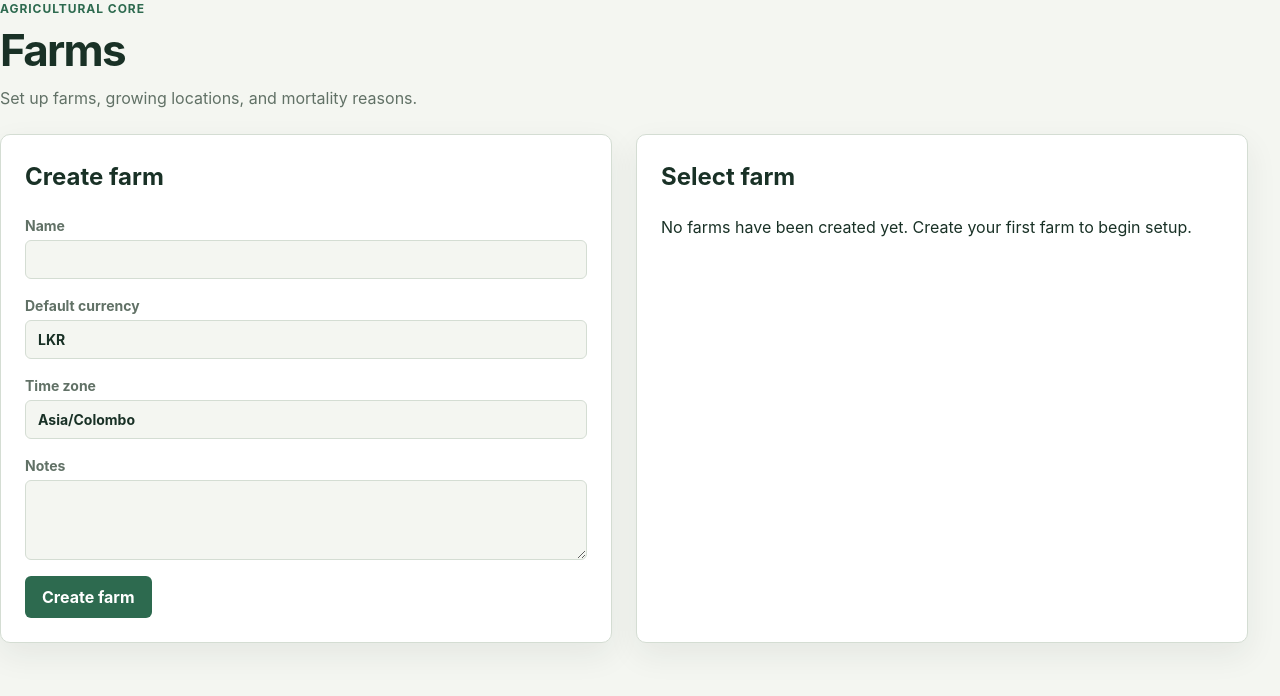
FarmsPage › creates a Farm with defaults then selects the created Farm and loads its setup
In the field labelled "Name": (306, 260) [25,240,587,279], type "Test Farm"
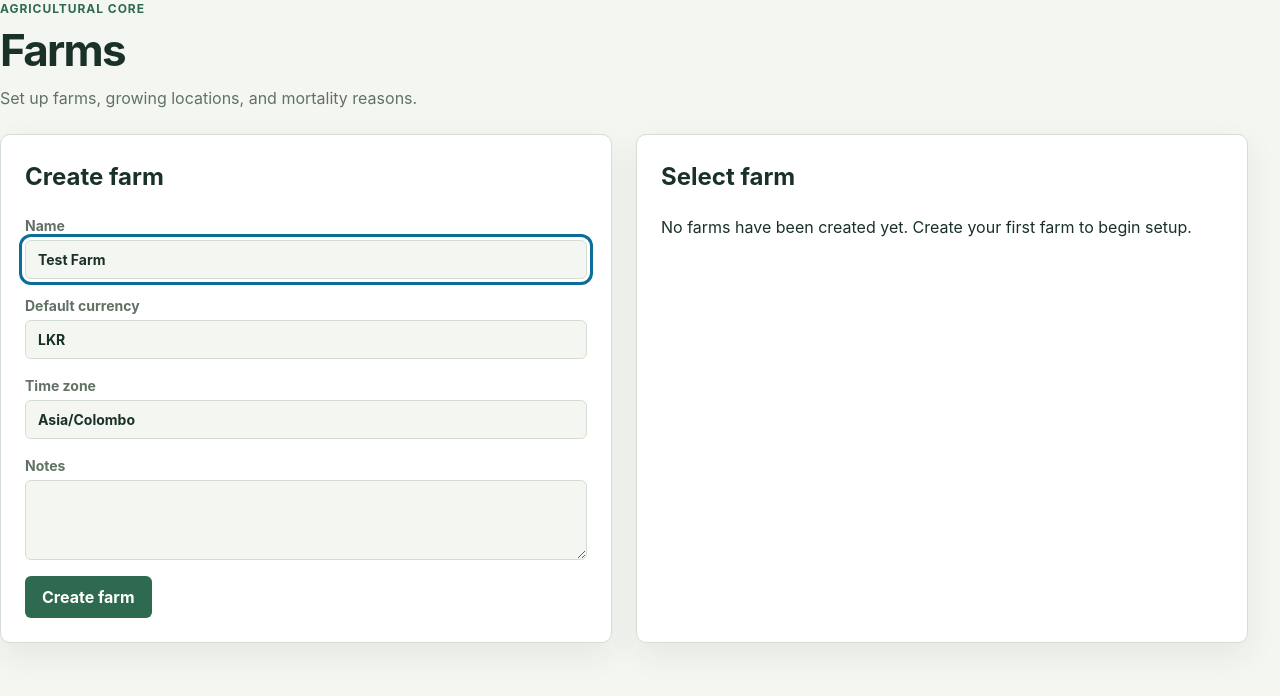
Click the button "Create farm": (88, 597) [25,576,152,618]
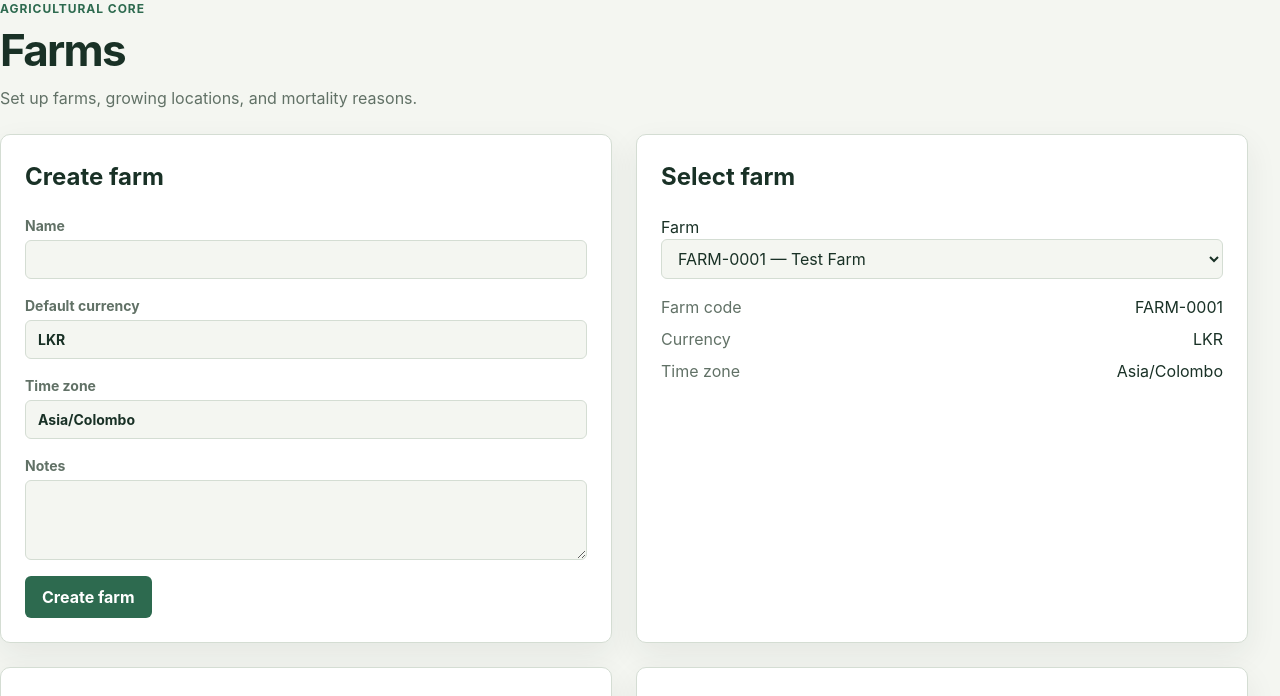
Expected: the dropdown labelled "Farm" shows "FARM-0001 — Test Farm", [661,239,1223,279]
